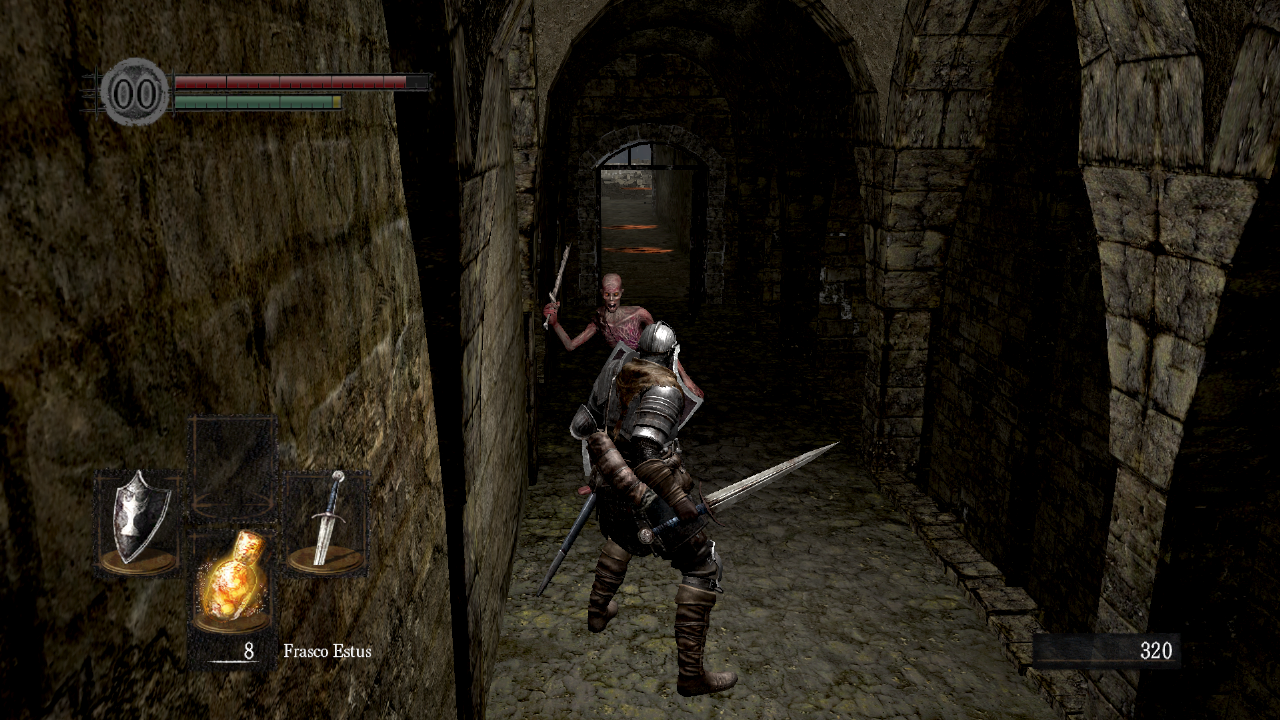hollow: (542, 271, 655, 352)
player: (537, 320, 841, 698)
